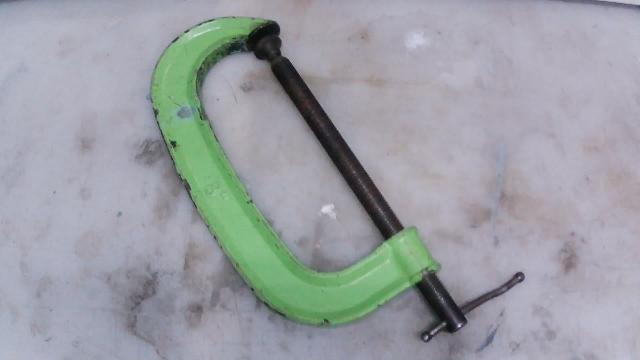tekiro_c_clamp: (119, 0, 540, 350)
